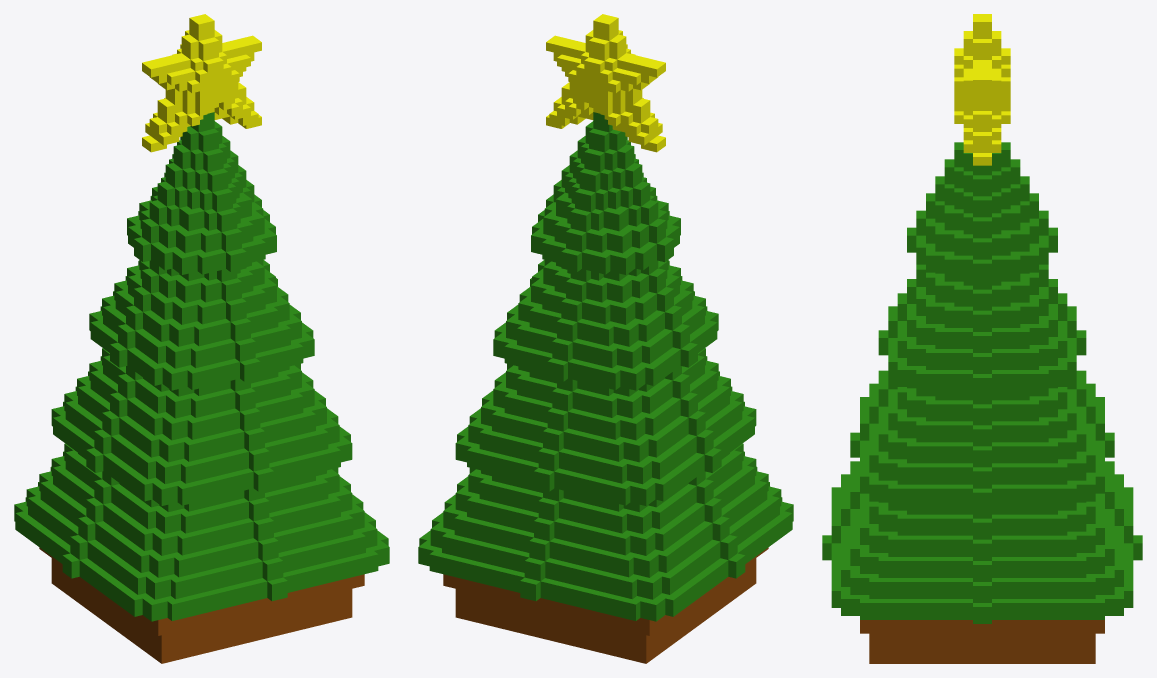
Rendered from ChristmasTree.fbx.
The picture shows the model from 3 angles, left to right: view 1: azimuth 30°, elevation 25°; view 2: azimuth 150°, elevation 25°; view 3: azimuth 270°, elevation 25°; orthographic projection. The views are drawn at different scales.
Visible parts, largest first — view 1: ObjObject.003; view 2: ObjObject.003; view 3: ObjObject.003.
Boxes of the visible parts, left/top/right/bottom form: ObjObject.003: left=14, top=14, right=389, bottom=663; ObjObject.003: left=418, top=14, right=793, bottom=663; ObjObject.003: left=822, top=14, right=1142, bottom=663.
Size of the model in its own units: 486 by 1000 by 486.
